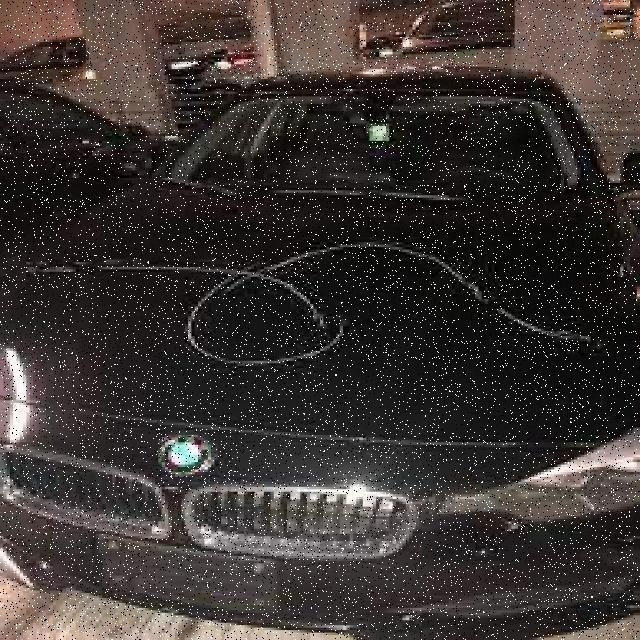headlight: (10, 198, 637, 490)
